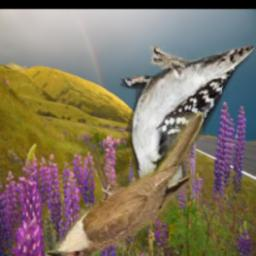Cuckoo: (45, 112, 202, 256)
Woodpecker: (120, 46, 254, 218)
